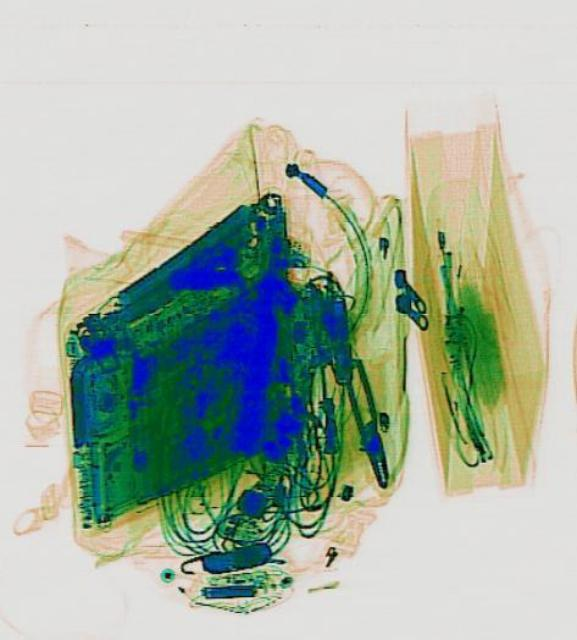Pliers: (334, 356, 397, 488)
